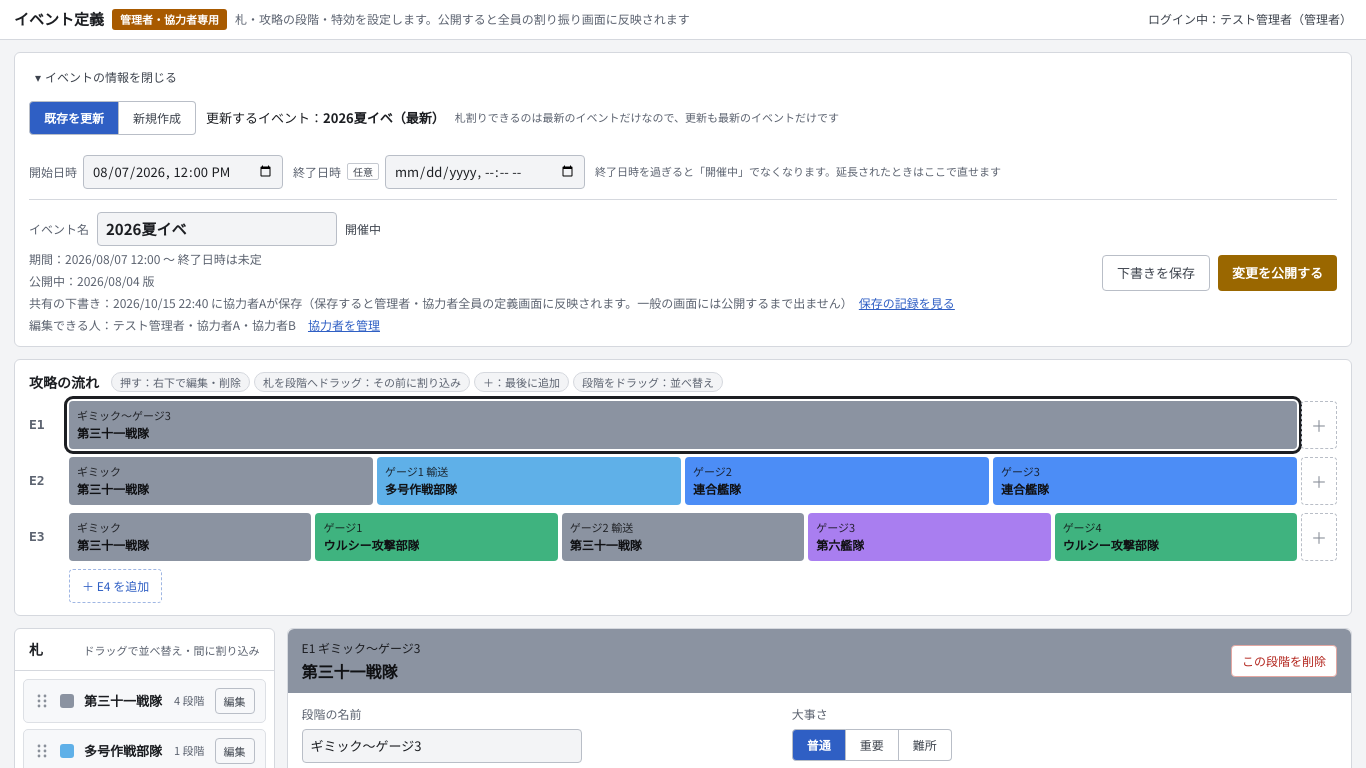
Test: 保存の記録のウィンドウ（定義画面） › 「保存の記録を見る」 › 開く前は記録を読まず、押すと最新のイベントの記録を読む
Expected: the element "攻略の流れ" is shown, [14,358,1352,616]
Step 1. Click the button "保存の記録を見る" → (907, 302), box [859,294,955,310]
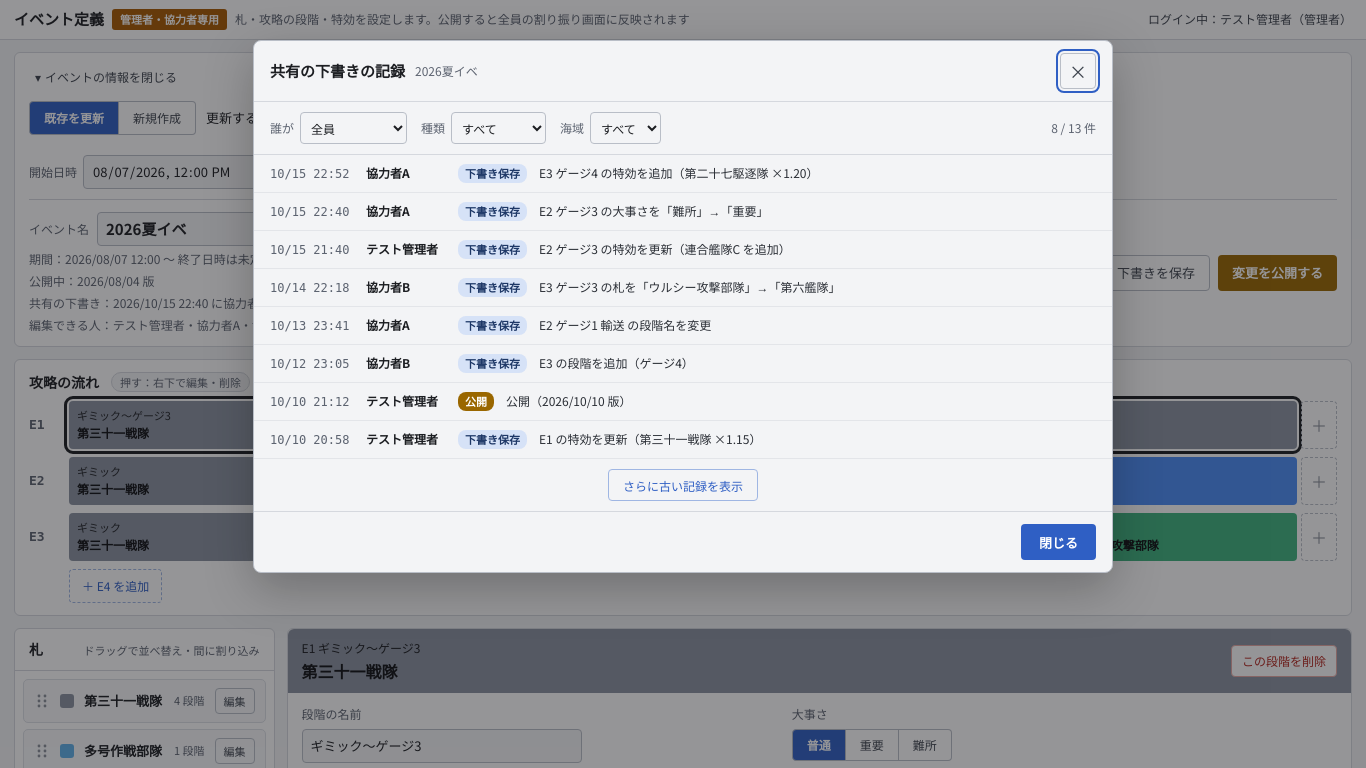
Expected: the list named "記録" is shown, [254,155,1112,511]
